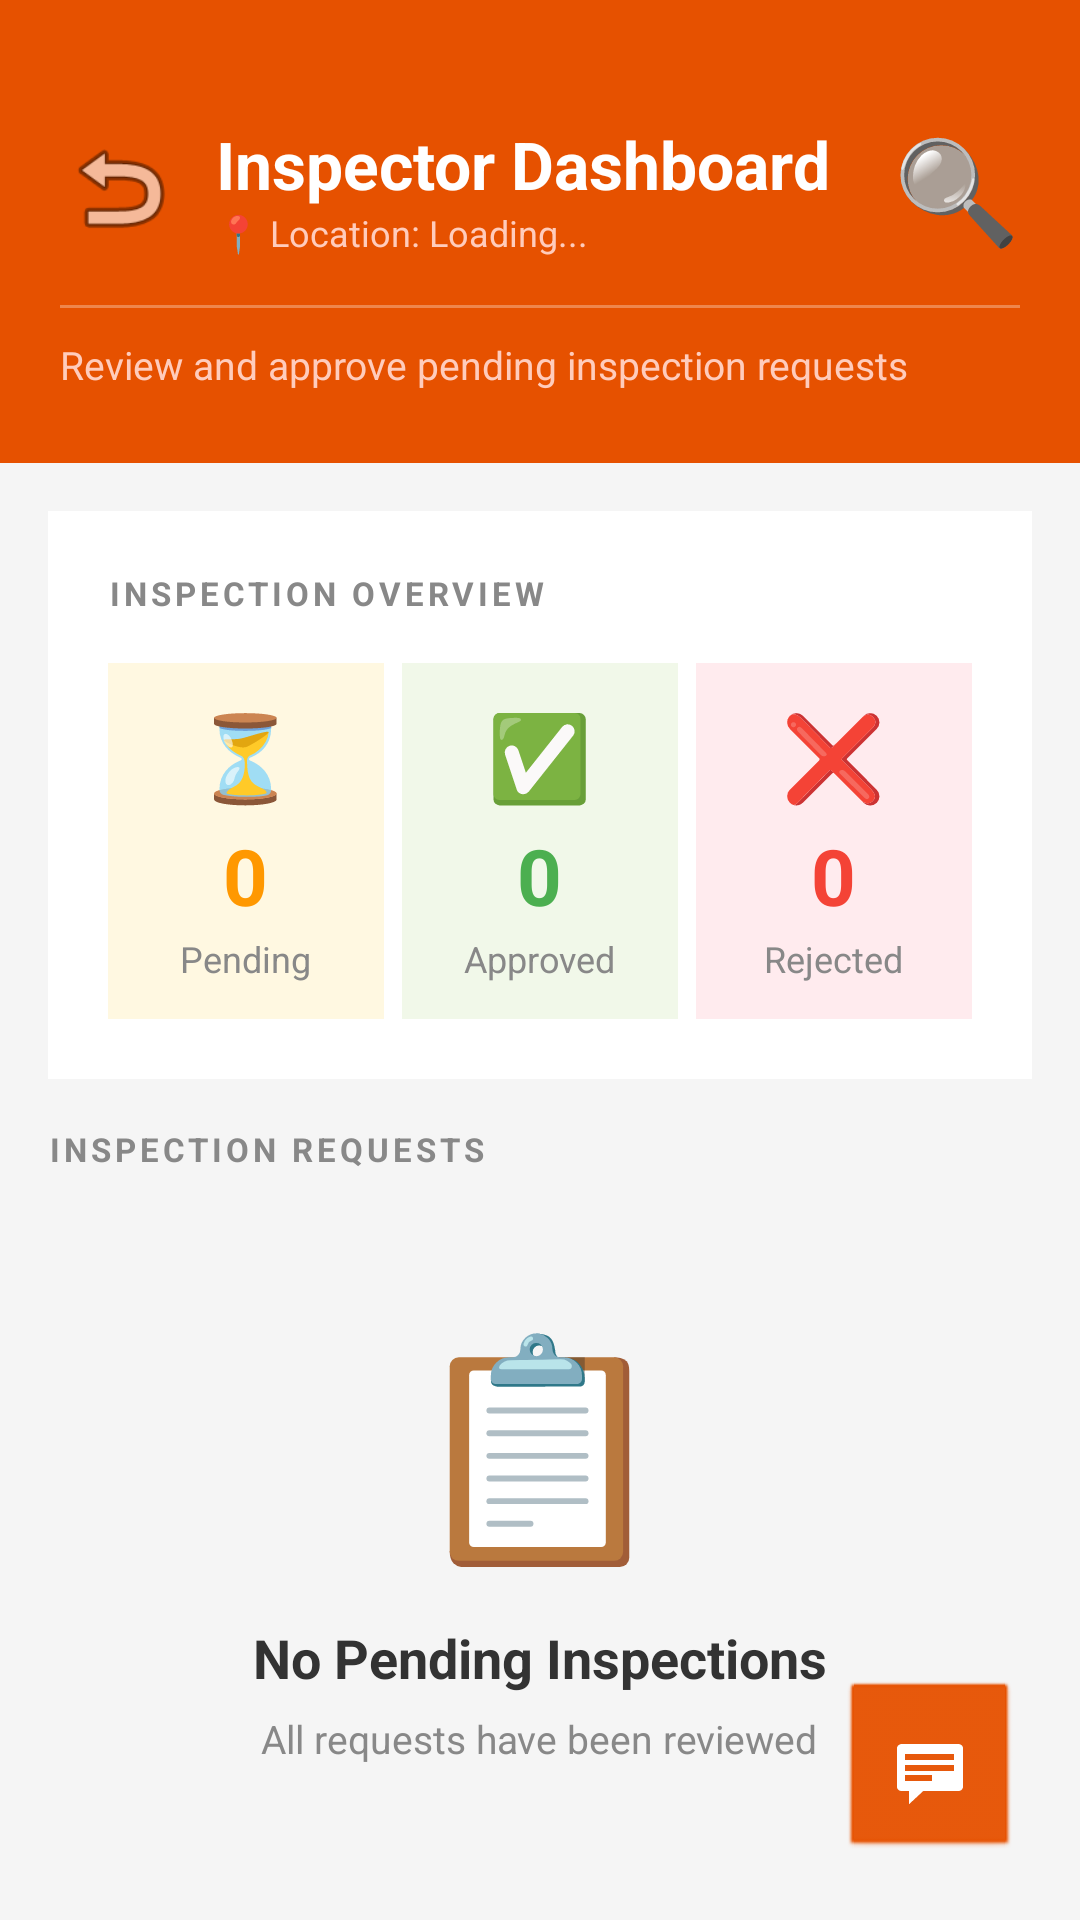

Screen size 1080px×1920px. Icon name, then its box in pixels as (x1, y1, x2, y2):
chat: (849, 1683, 1010, 1846)
revert: (78, 150, 165, 228)
